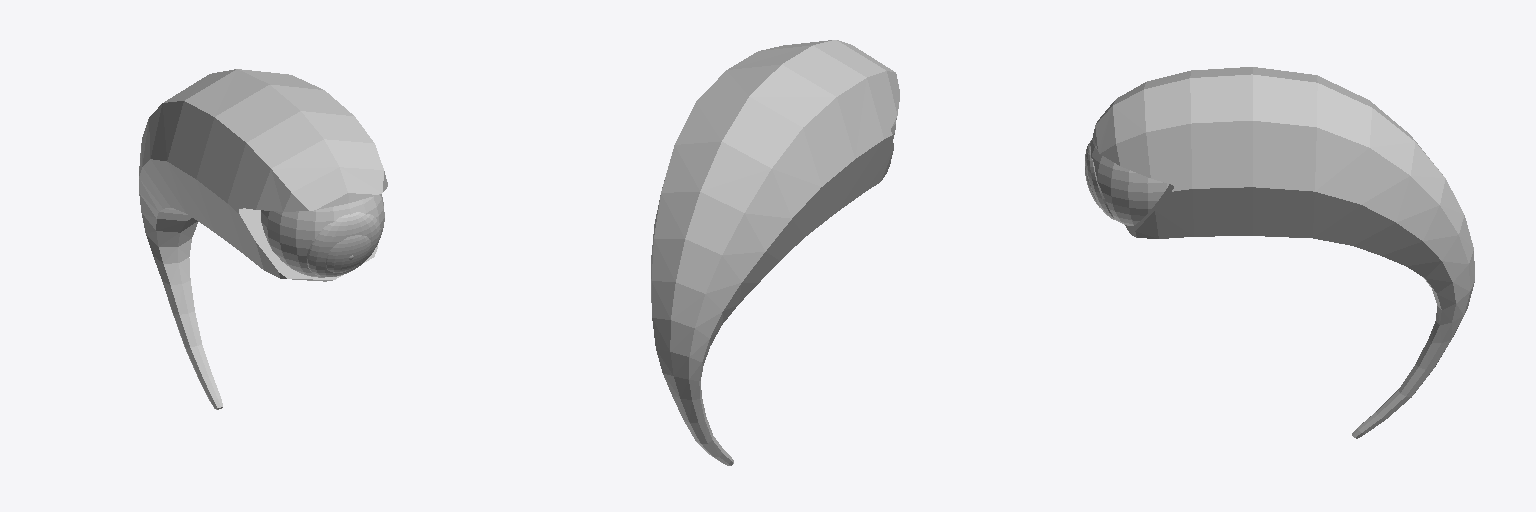
Rendered from enemy0_body.obj.
3 renders of one model, left to right at view 1: azimuth 30°, elevation 25°; view 2: azimuth 150°, elevation 25°; view 3: azimuth 270°, elevation 25°, orthographic.
Size of the model in its own units: 1.99 by 4.7 by 4.57.